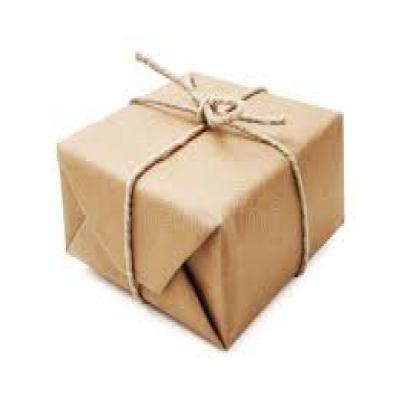paquete: (52, 11, 366, 356)
